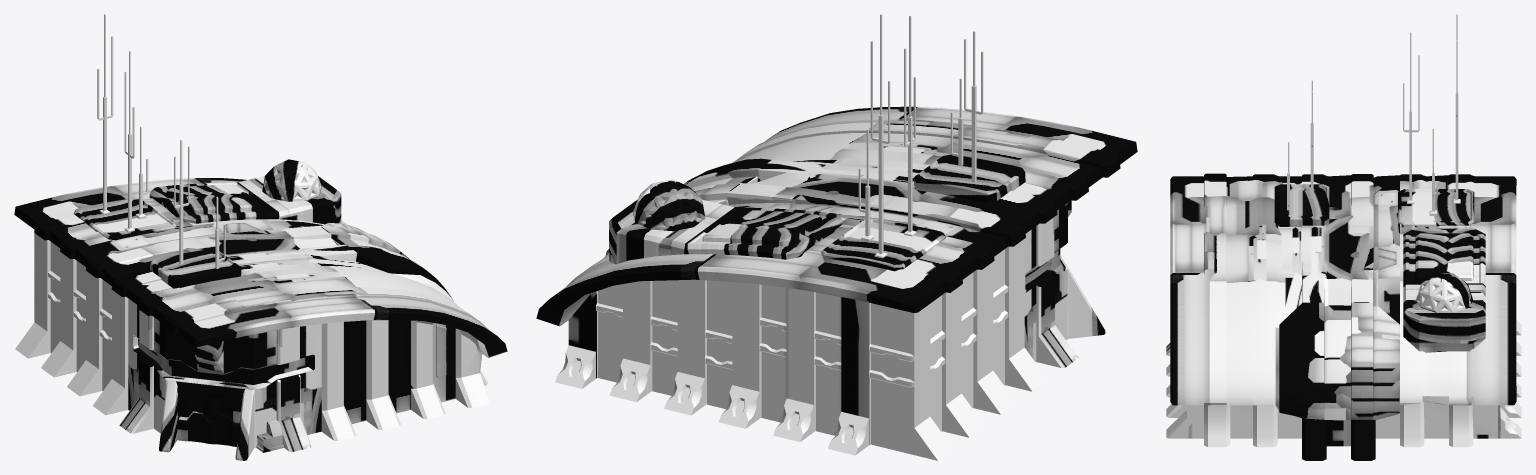
The model's file is barrack_light_inflantry.fbx.
3 renders of one model, left to right at view 1: azimuth 30°, elevation 25°; view 2: azimuth 150°, elevation 25°; view 3: azimuth 270°, elevation 25°, orthographic. The views are drawn at different scales.
Visible parts, largest first — view 1: barrack_light_inflantry; view 2: barrack_light_inflantry; view 3: barrack_light_inflantry.
Part boxes in pixels (x1=…): barrack_light_inflantry: x1=14, y1=14, x2=507, y2=460; barrack_light_inflantry: x1=536, y1=14, x2=1137, y2=460; barrack_light_inflantry: x1=1166, y1=14, x2=1521, y2=460.
Size of the model in its own units: 378 by 370 by 368.
